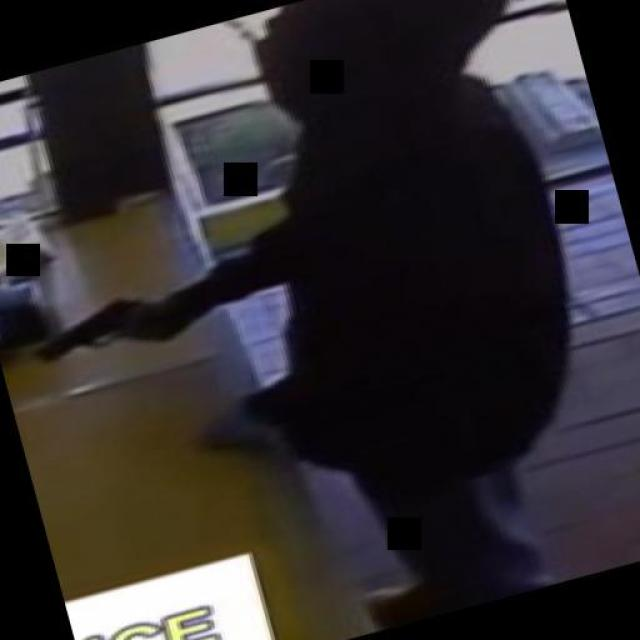gun: (21, 283, 190, 375)
